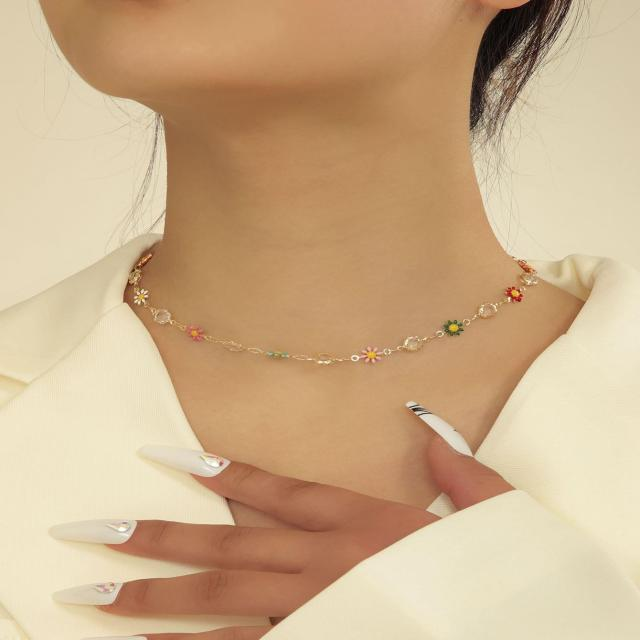Nail: (408, 403, 471, 456), (141, 448, 229, 477), (50, 520, 137, 544), (54, 583, 124, 605), (85, 635, 146, 639)
